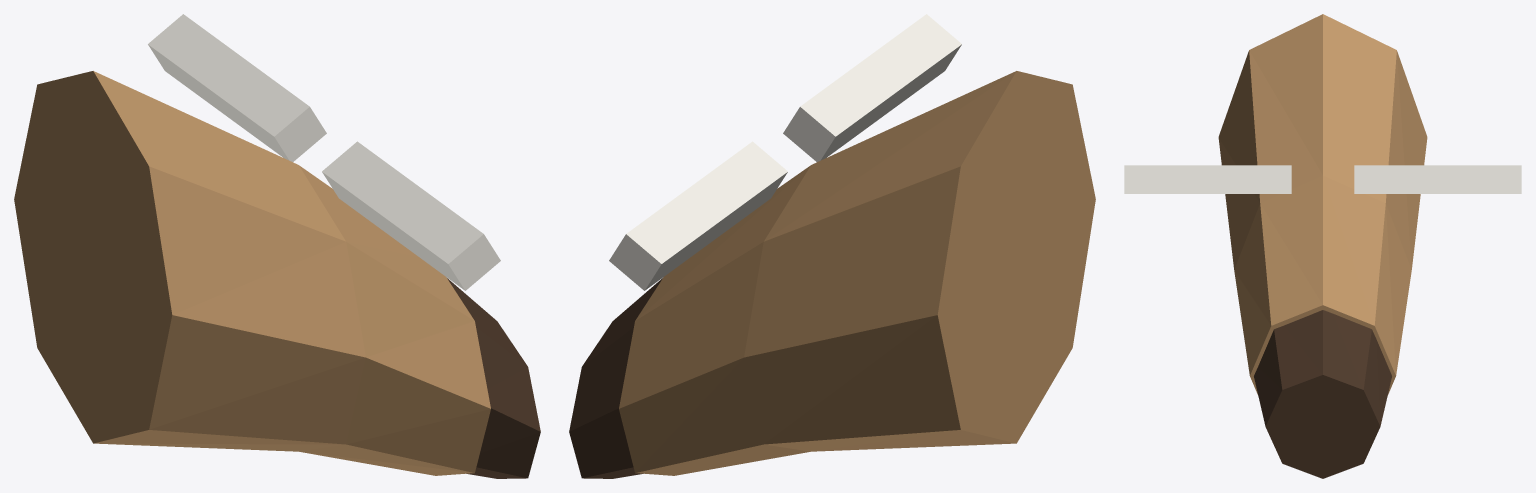
File: carreta_head_buey.obj
The picture shows the model from 3 angles, left to right: view 1: azimuth 30°, elevation 25°; view 2: azimuth 150°, elevation 25°; view 3: azimuth 270°, elevation 25°; orthographic projection. The views are drawn at different scales.
Visible parts, largest first — view 1: carreta_head_buey; view 2: carreta_head_buey; view 3: carreta_head_buey.
Part boxes in pixels (x1,y1,x2,y2): carreta_head_buey: (14, 14, 540, 478); carreta_head_buey: (569, 14, 1095, 478); carreta_head_buey: (1124, 14, 1521, 478).
Size of the model in its own units: 0.5428 by 0.6504 by 0.6992.
